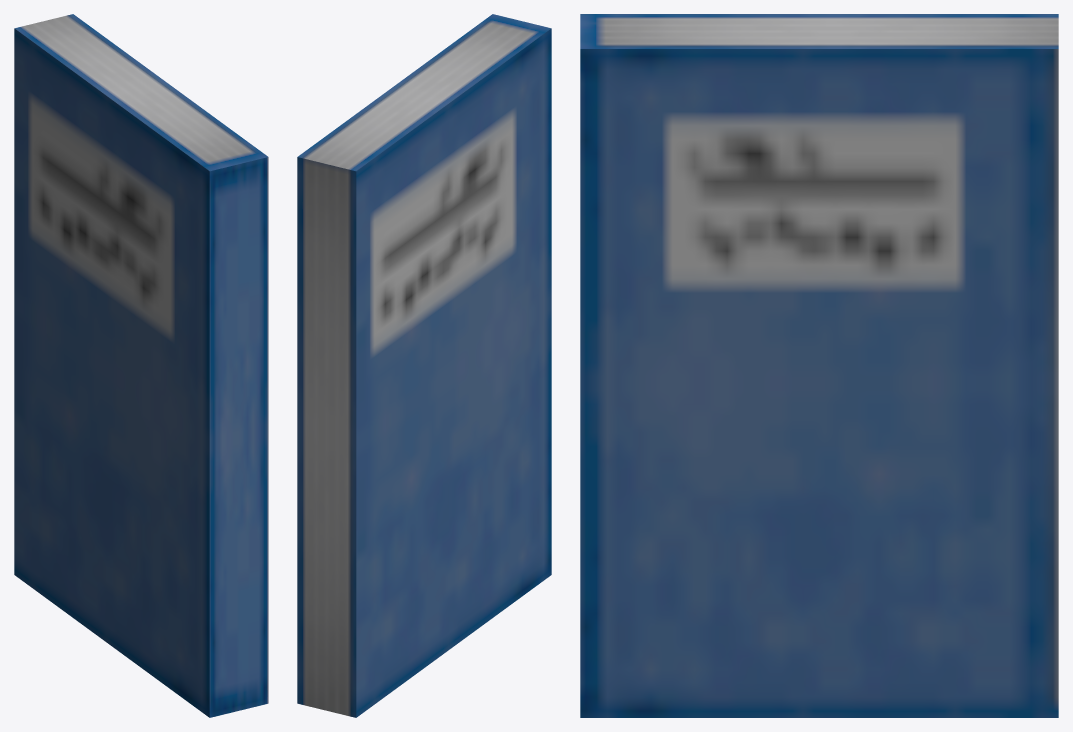
The model's file is book_blue.fbx.
The picture shows the model from 3 angles, left to right: view 1: azimuth 30°, elevation 25°; view 2: azimuth 150°, elevation 25°; view 3: azimuth 270°, elevation 25°; orthographic projection. The views are drawn at different scales.
Parts seen in each view (by area): view 1: book_blue; view 2: book_blue; view 3: book_blue.
Part boxes in pixels (bbox=[...]): book_blue: bbox=[14, 14, 268, 717]; book_blue: bbox=[297, 14, 551, 717]; book_blue: bbox=[580, 14, 1058, 717].
Size of the model in its own units: 3.36 by 29.79 by 19.3.
Materials: 1 (1 with a texture image).
